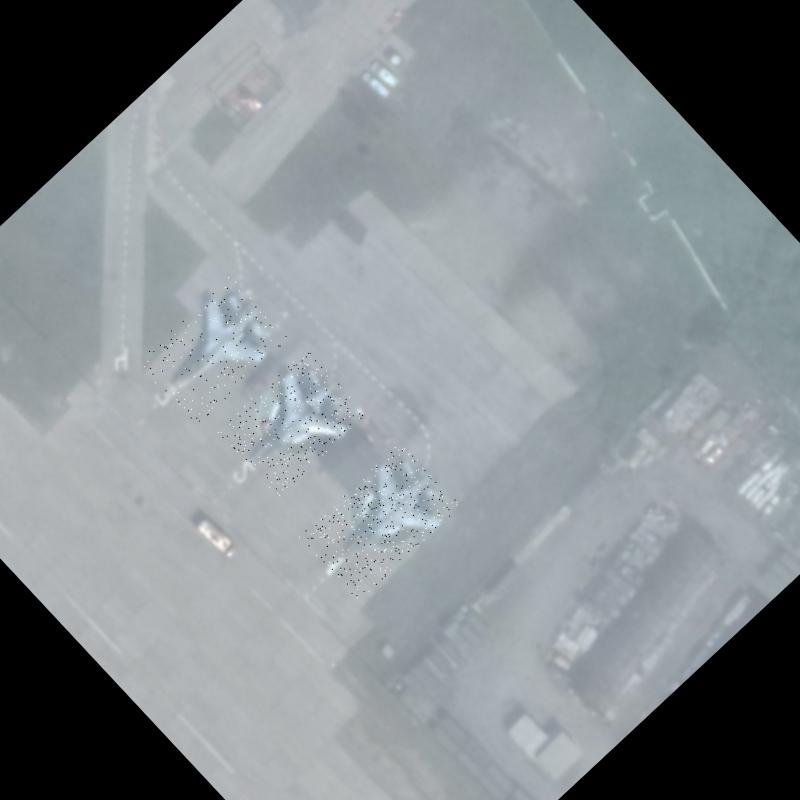A1: (299, 441, 461, 601), (136, 275, 290, 426), (216, 347, 368, 497)
